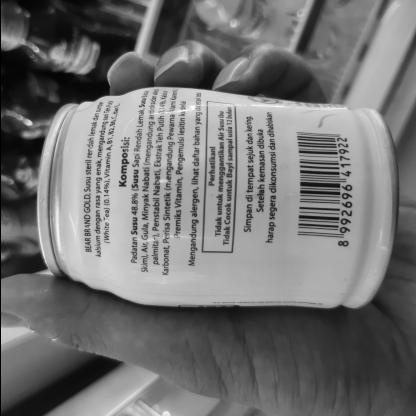alumunium_can: (10, 72, 402, 322)
